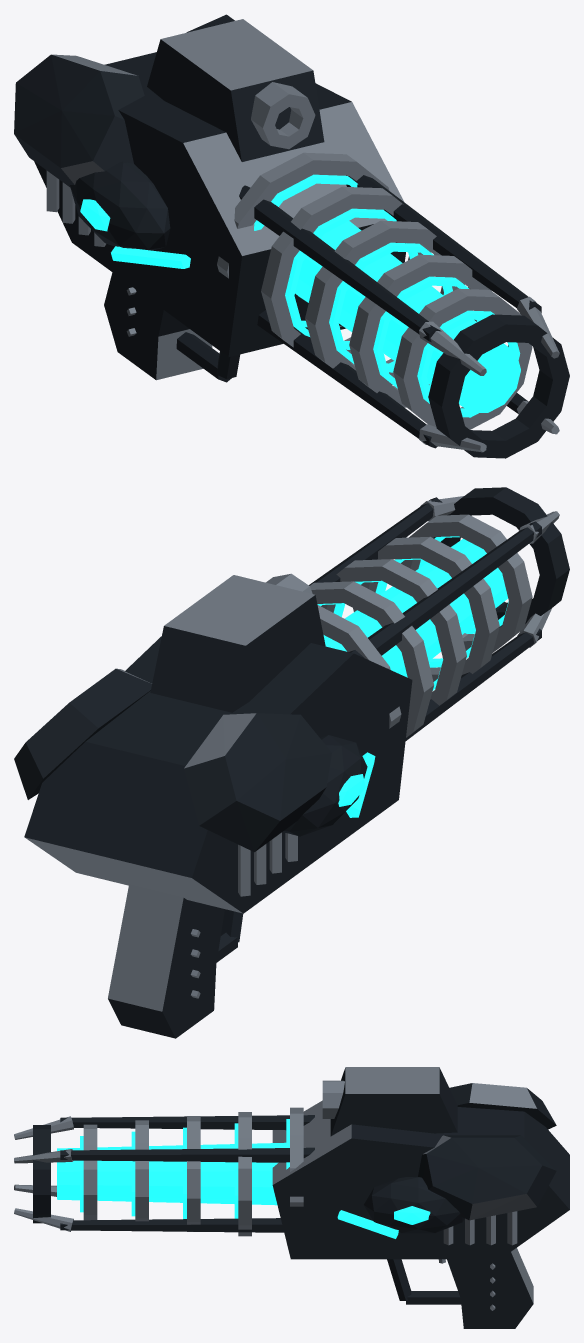
Rendered from ElectricCannon_Final.fbx.
The picture shows the model from 3 angles, top to bottom: view 1: azimuth 30°, elevation 25°; view 2: azimuth 150°, elevation 25°; view 3: azimuth 270°, elevation 25°; orthographic projection. The views are drawn at different scales.
Visible parts, largest first — view 1: Receiver_Mesh, Generator_Mesh, Coils_Mesh, BarrelCage_Mesh, EnergyChamber_Mesh, Grip_Mesh; view 2: Receiver_Mesh, Generator_Mesh, Coils_Mesh, Grip_Mesh, BarrelCage_Mesh, EnergyChamber_Mesh; view 3: Receiver_Mesh, Generator_Mesh, BarrelCage_Mesh, EnergyChamber_Mesh, Coils_Mesh, Grip_Mesh.
Part boxes in pixels (left/top/right/bottom): Receiver_Mesh: left=14, top=14, right=405, bottom=357; Generator_Mesh: left=46, top=19, right=324, bottom=268; Coils_Mesh: left=217, top=152, right=532, bottom=429; BarrelCage_Mesh: left=239, top=175, right=569, bottom=458; EnergyChamber_Mesh: left=254, top=174, right=520, bottom=417; Grip_Mesh: left=104, top=272, right=240, bottom=382; Receiver_Mesh: left=14, top=636, right=412, bottom=913; Generator_Mesh: left=150, top=573, right=375, bottom=896; Coils_Mesh: left=310, top=514, right=532, bottom=737; Grip_Mesh: left=108, top=884, right=243, bottom=1038; BarrelCage_Mesh: left=309, top=487, right=569, bottom=740; EnergyChamber_Mesh: left=317, top=536, right=508, bottom=690; Receiver_Mesh: left=272, top=1083, right=569, bottom=1259; Generator_Mesh: left=322, top=1067, right=517, bottom=1245; BarrelCage_Mesh: left=14, top=1115, right=314, bottom=1232; EnergyChamber_Mesh: left=57, top=1119, right=289, bottom=1218; Coils_Mesh: left=83, top=1107, right=303, bottom=1236; Grip_Mesh: left=387, top=1248, right=533, bottom=1328.
Bounding box in the file's own units: 0.282 × 0.36 × 0.7582.
